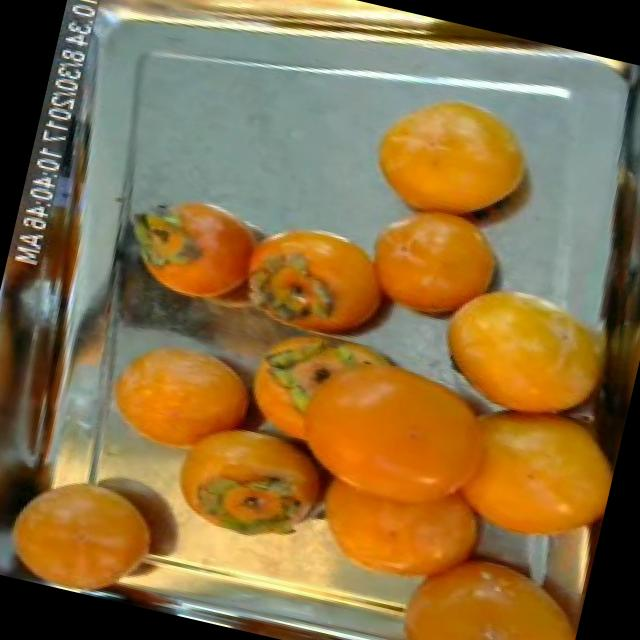Fruit: (405, 251, 640, 449), (346, 68, 554, 252), (83, 314, 284, 484), (338, 181, 524, 346), (111, 175, 285, 320)
